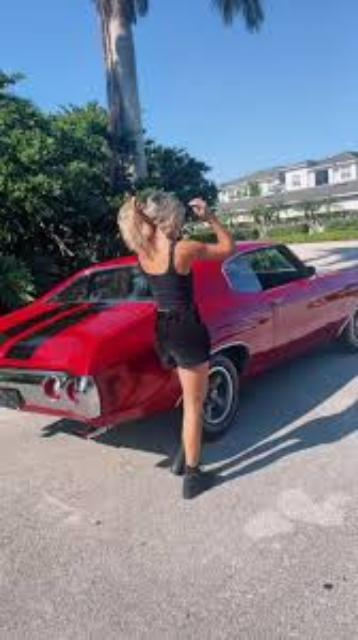chevelle-1972: (192, 241, 356, 437), (2, 256, 181, 435), (194, 241, 356, 437), (2, 256, 181, 433)
